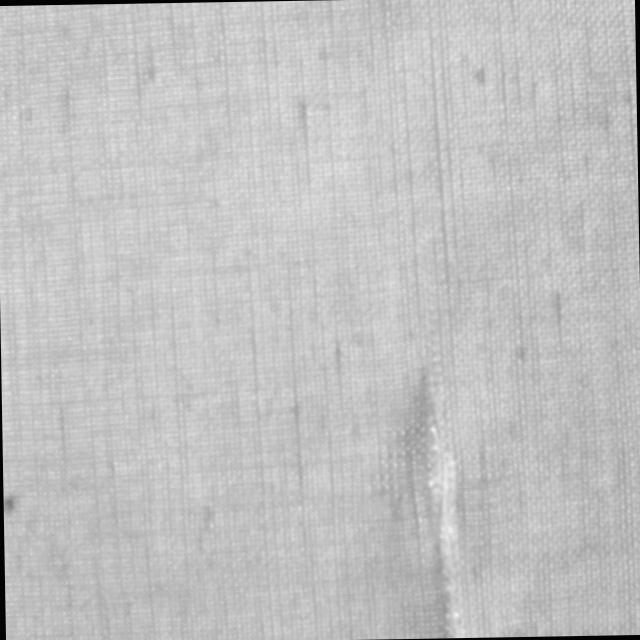thread error: (383, 365, 473, 637)
